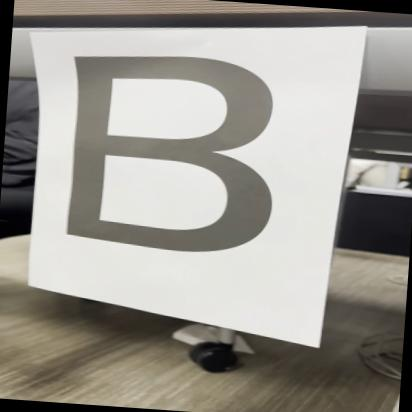seat: (46, 42, 306, 266)
